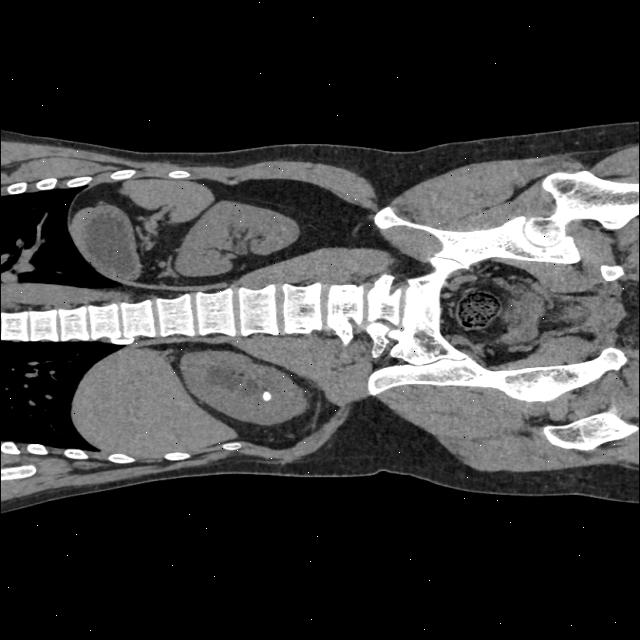kidneystone: (264, 391, 272, 400)
